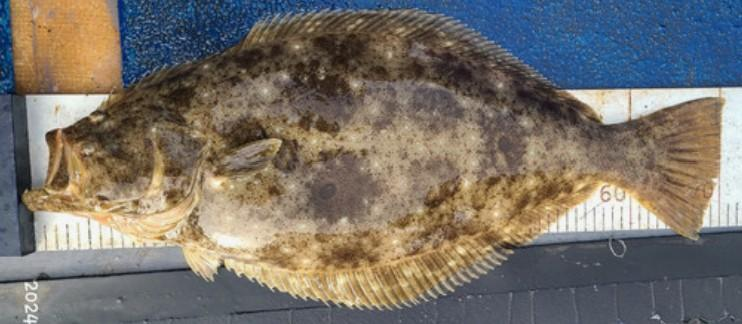fish: (23, 9, 726, 310)
